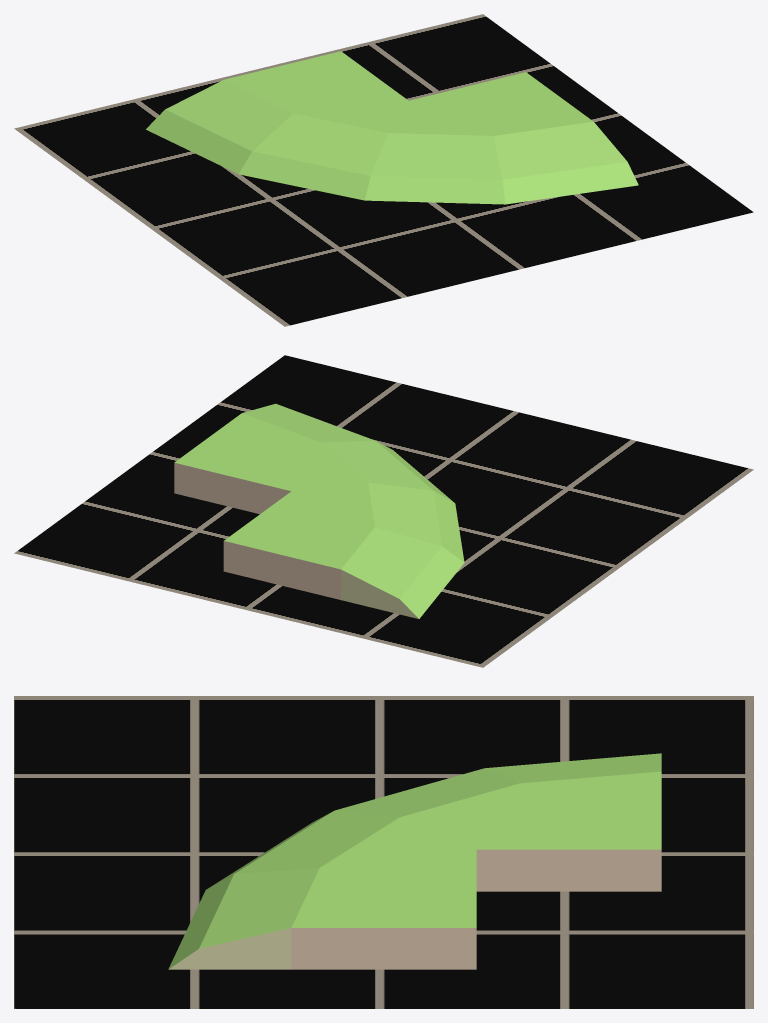
File: Grass_Carpet_Curve_Outer_3x3.glb
3 views of the same model, one above another, from view 1: azimuth 30°, elevation 25°; view 2: azimuth 150°, elevation 25°; view 3: azimuth 270°, elevation 25° (orthographic). The views are drawn at different scales.
Visible parts, largest first — view 1: Floor, Grass_Carpet_Curve_Outer_3x3; view 2: Floor, Grass_Carpet_Curve_Outer_3x3; view 3: Floor, Grass_Carpet_Curve_Outer_3x3.
Boxes of the visible parts, x1,y1,x2,y2 form: Floor: [14, 14, 753, 326]; Grass_Carpet_Curve_Outer_3x3: [146, 51, 638, 204]; Floor: [14, 355, 753, 667]; Grass_Carpet_Curve_Outer_3x3: [174, 403, 464, 618]; Floor: [14, 696, 753, 1008]; Grass_Carpet_Curve_Outer_3x3: [168, 753, 661, 969].
Bounding box in the file's own units: 400 × 25 × 400.
Materials: 5 (1 with a texture image).
